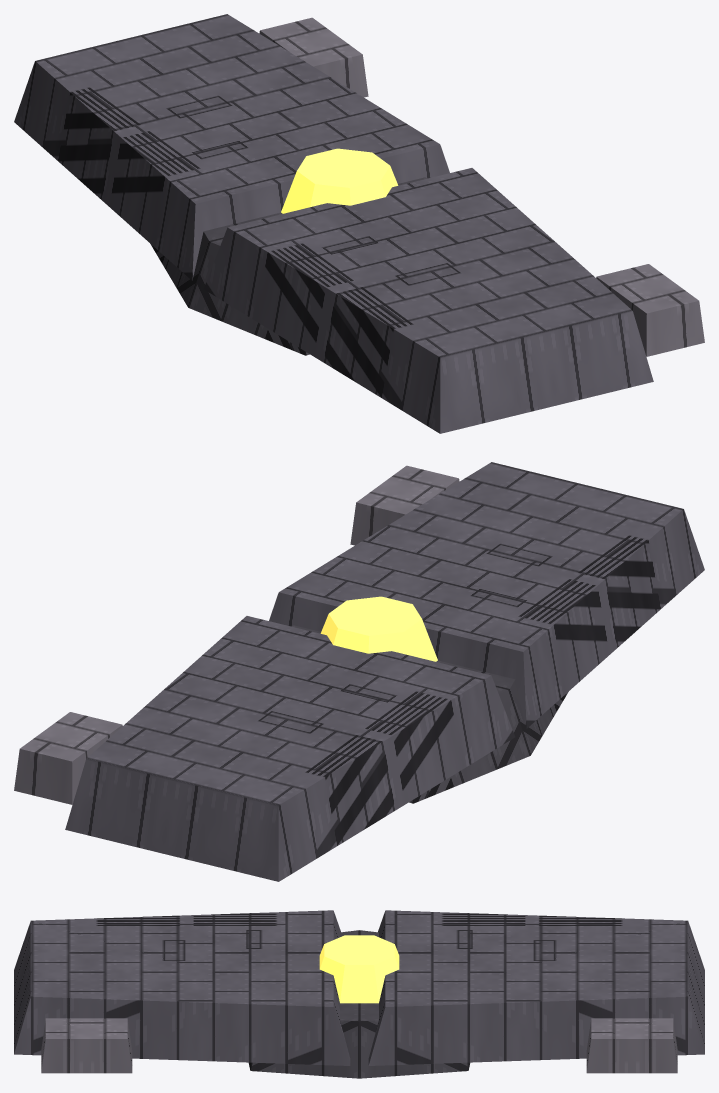
The model's file is anvil_ember.glb.
3 views of the same model, one above another, from view 1: azimuth 30°, elevation 25°; view 2: azimuth 150°, elevation 25°; view 3: azimuth 270°, elevation 25° (orthographic). The views are drawn at different scales.
Size of the model in its own units: 33 by 10 by 76.
Materials: 6 (5 with a texture image).
